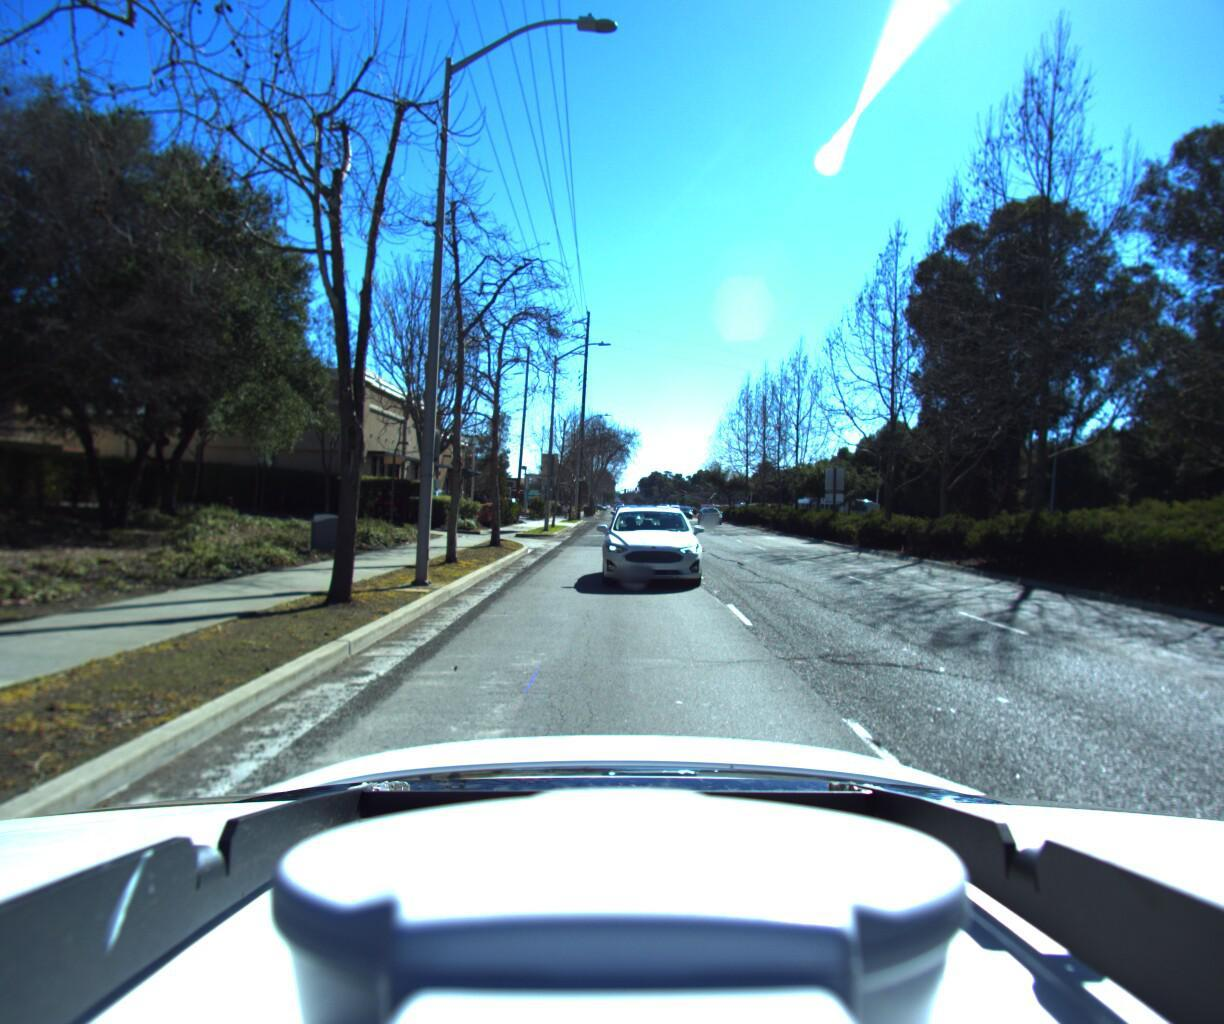bus: (777, 492, 876, 529)
car: (596, 505, 706, 597), (693, 504, 723, 523)
